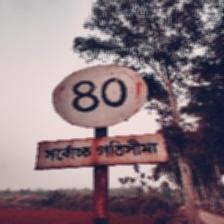Speed-limit: (37, 62, 167, 169)
